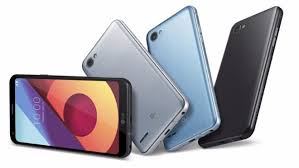lg: (7, 71, 138, 159)
